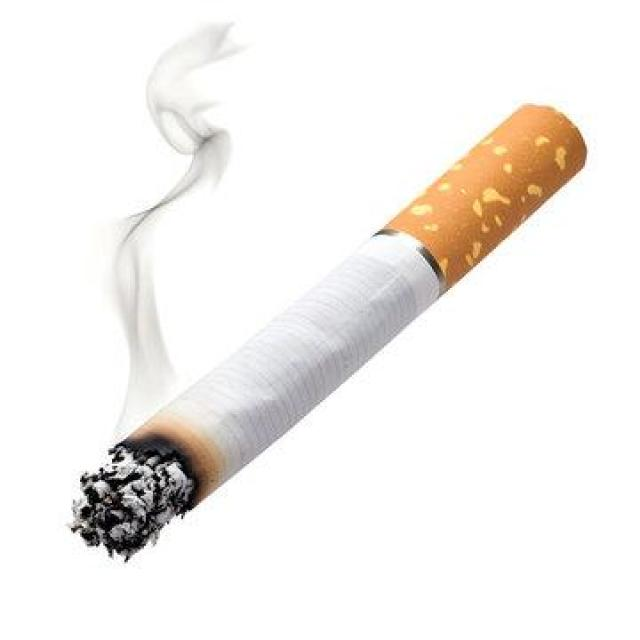cigarette: (80, 105, 588, 555)
